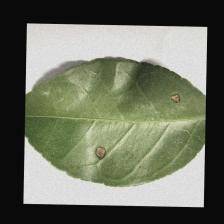canker: (85, 128, 124, 167)
